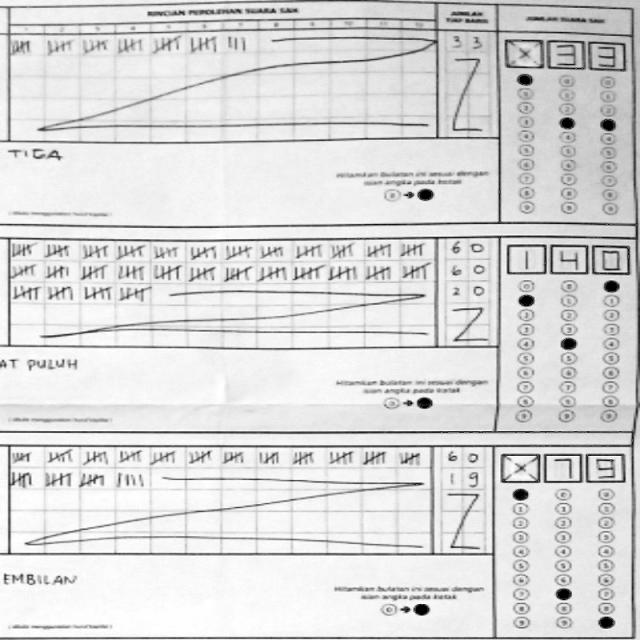Suara: (502, 34, 628, 74), (501, 238, 630, 275), (496, 448, 627, 484)
